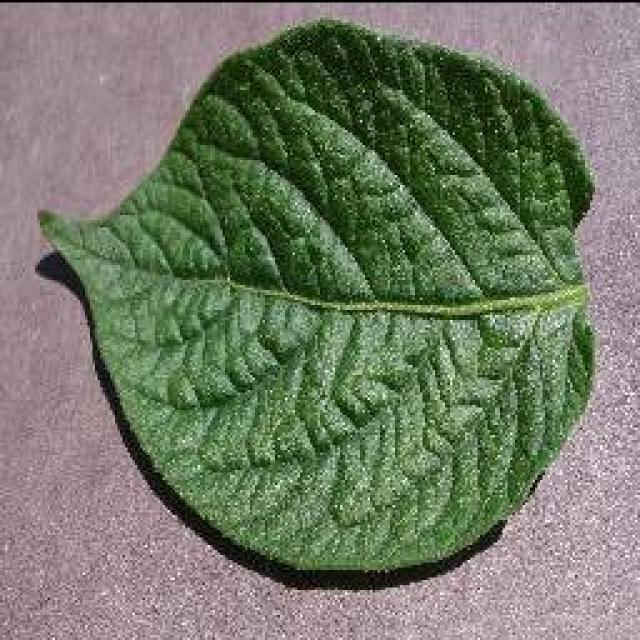Potato___healthy: (35, 20, 596, 571)
